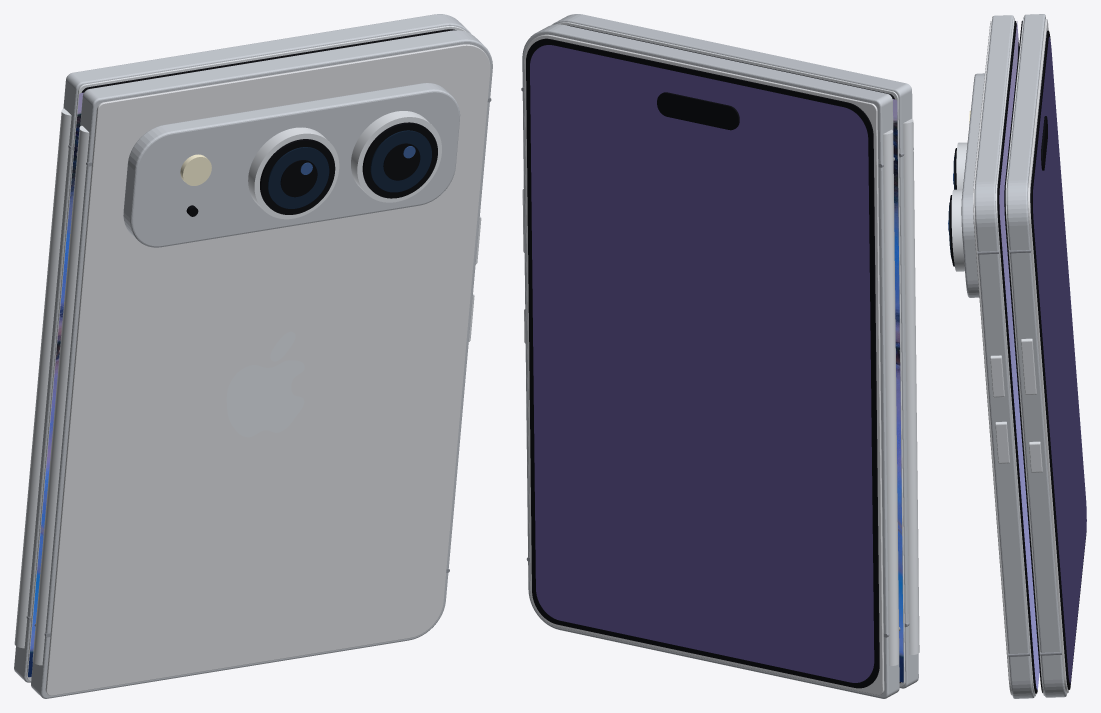
File: duo.glb
3 views of the same model, side by side, from view 1: azimuth 30°, elevation 25°; view 2: azimuth 150°, elevation 25°; view 3: azimuth 270°, elevation 25° (orthographic). The views are drawn at different scales.
Parts seen in each view (by area): view 1: Left ceramic rear, Camera island, Left titanium frame, Right titanium frame, Right hinge barrel, Left hinge barrel, Apple emblem, Right front polished rim, Display_Right, Camera machined ring 0, Camera machined ring 1, Camera glass 0 (+7 smaller); view 2: Cover_Display, Right titanium frame, Cover black surround, Left titanium frame, Right ceramic rear, Right hinge barrel, Left hinge barrel, Display_Left, Left front polished rim, Cover dynamic island; view 3: Cover_Display, Right titanium frame, Left titanium frame, Display_Left, Camera island, Right ceramic rear, Cover black surround, Left black glass surround, Left ceramic rear, Left front polished rim, Right front polished rim, Right black glass surround (+7 smaller).
Boxes of the visible parts, x1,y1,x2,y2 form: Left ceramic rear: (45,44,490,695); Camera island: (123,83,460,247); Left titanium frame: (31,30,492,698); Right titanium frame: (14,14,470,682); Right hinge barrel: (14,108,71,648); Left hinge barrel: (32,125,89,665); Apple emblem: (226,360,304,437); Right front polished rim: (26,26,466,681); Display_Right: (28,92,83,677); Camera machined ring 0: (351,111,441,202); Camera machined ring 1: (248,127,339,219); Camera glass 0: (370,130,431,192); Cover_Display: (530,45,874,682); Right titanium frame: (522,24,899,698); Cover black surround: (526,38,879,688); Left titanium frame: (552,14,918,688); Right ceramic rear: (524,34,884,695); Right hinge barrel: (883,129,899,665); Left hinge barrel: (903,119,919,654); Display_Left: (892,99,903,682); Left front polished rim: (556,22,905,686); Cover dynamic island: (657,92,739,130); Cover_Display: (1033,36,1086,683); Right titanium frame: (1006,14,1066,697); Left titanium frame: (974,15,1034,698); Display_Left: (999,21,1039,689); Camera island: (961,73,984,297); Right ceramic rear: (1028,19,1068,693); Cover black surround: (1030,30,1086,689); Left black glass surround: (997,21,1037,693); Left ceramic rear: (973,21,1012,695); Left front polished rim: (995,17,1036,696); Right front polished rim: (1005,17,1044,695); Right black glass surround: (1004,21,1042,692).
Size of the model in its own units: 3.1 by 4.41 by 1.01.
10 materials, 1 textured.
